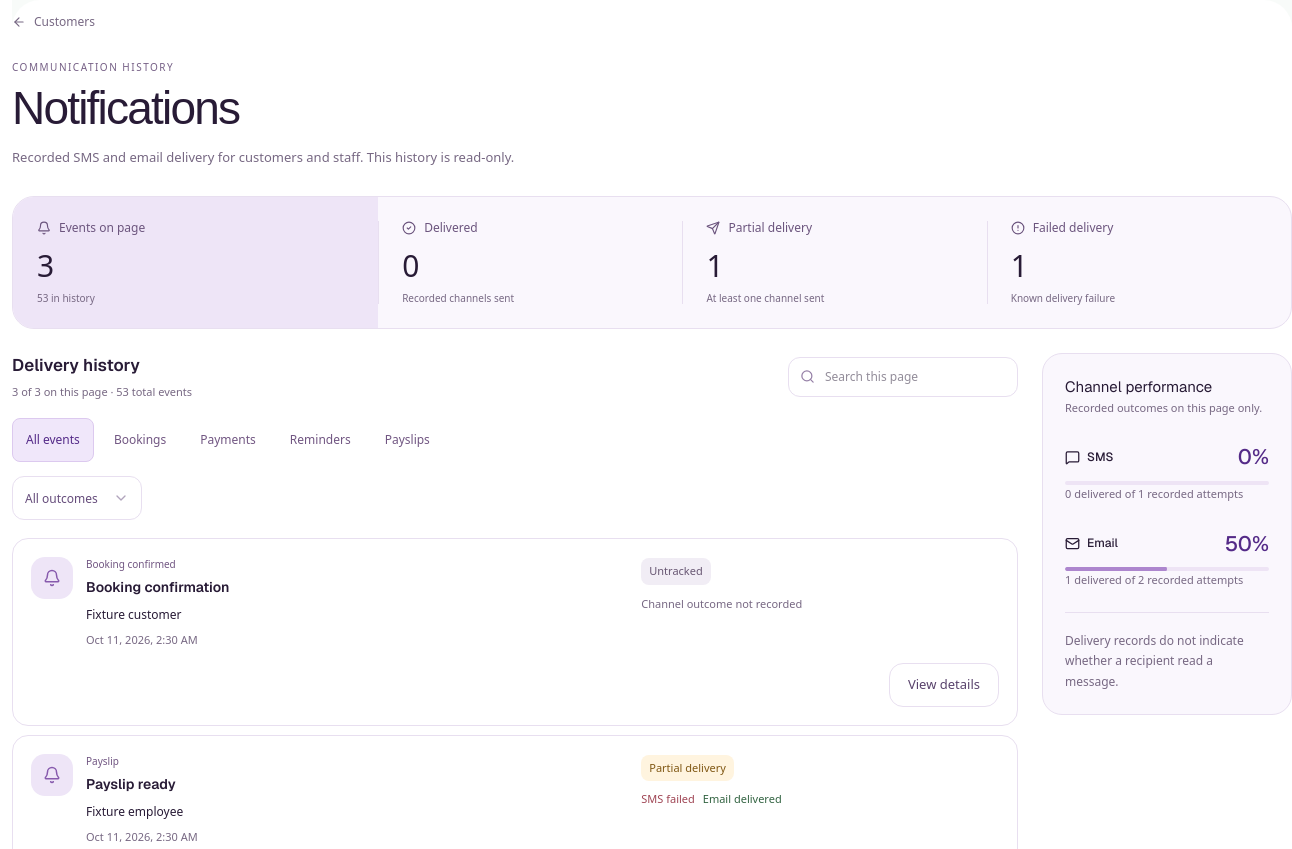
Test: Notifications redesign › filters and resets without changing the server page
Click the button "Payslips": (407, 440) x1=371 y1=418 x2=444 y2=462
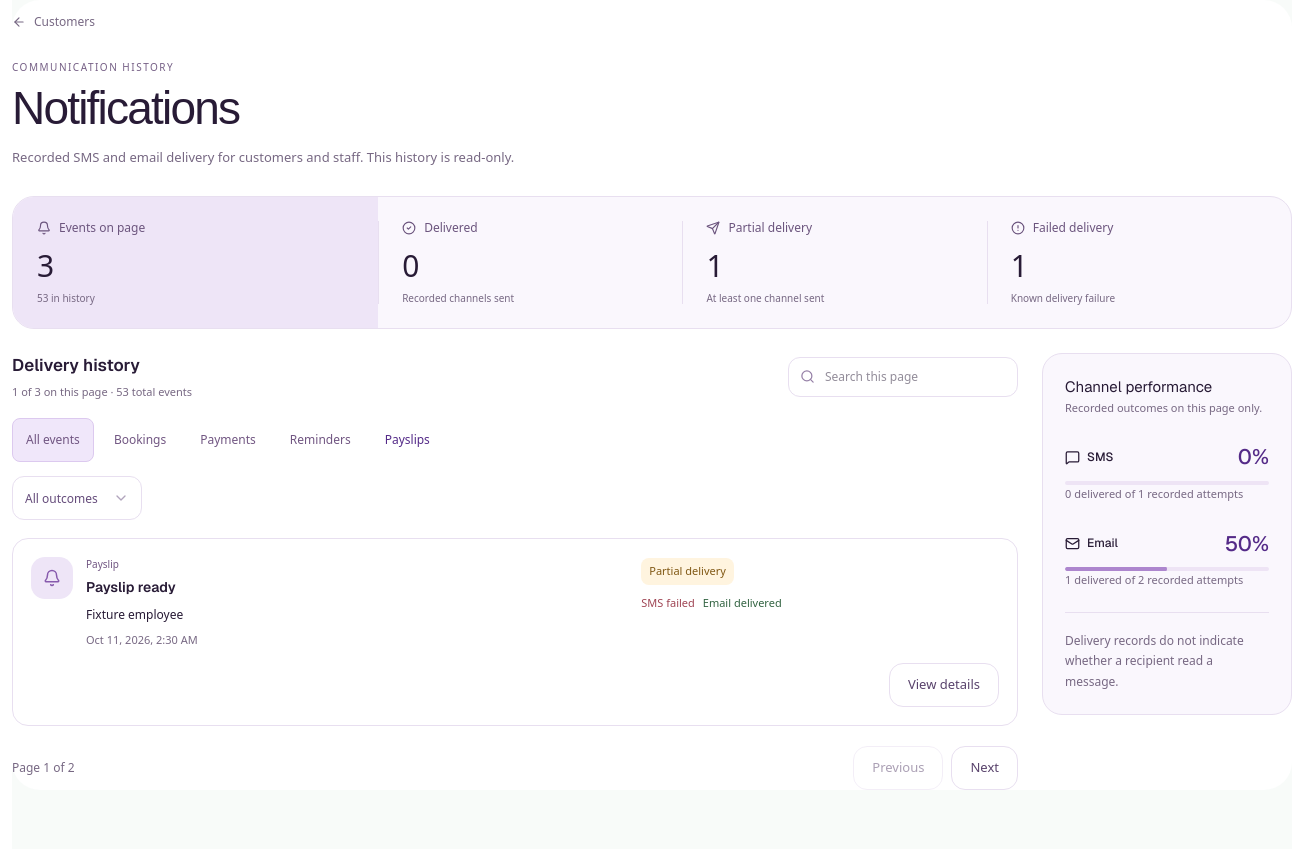
Expected: the text "Fixture employee" is shown, x1=86 y1=606 x2=198 y2=624
Expected: the text "Fixture customer" is gone
In the search field: (903, 377) x1=788 y1=357 x2=1018 y2=397, type "absent"
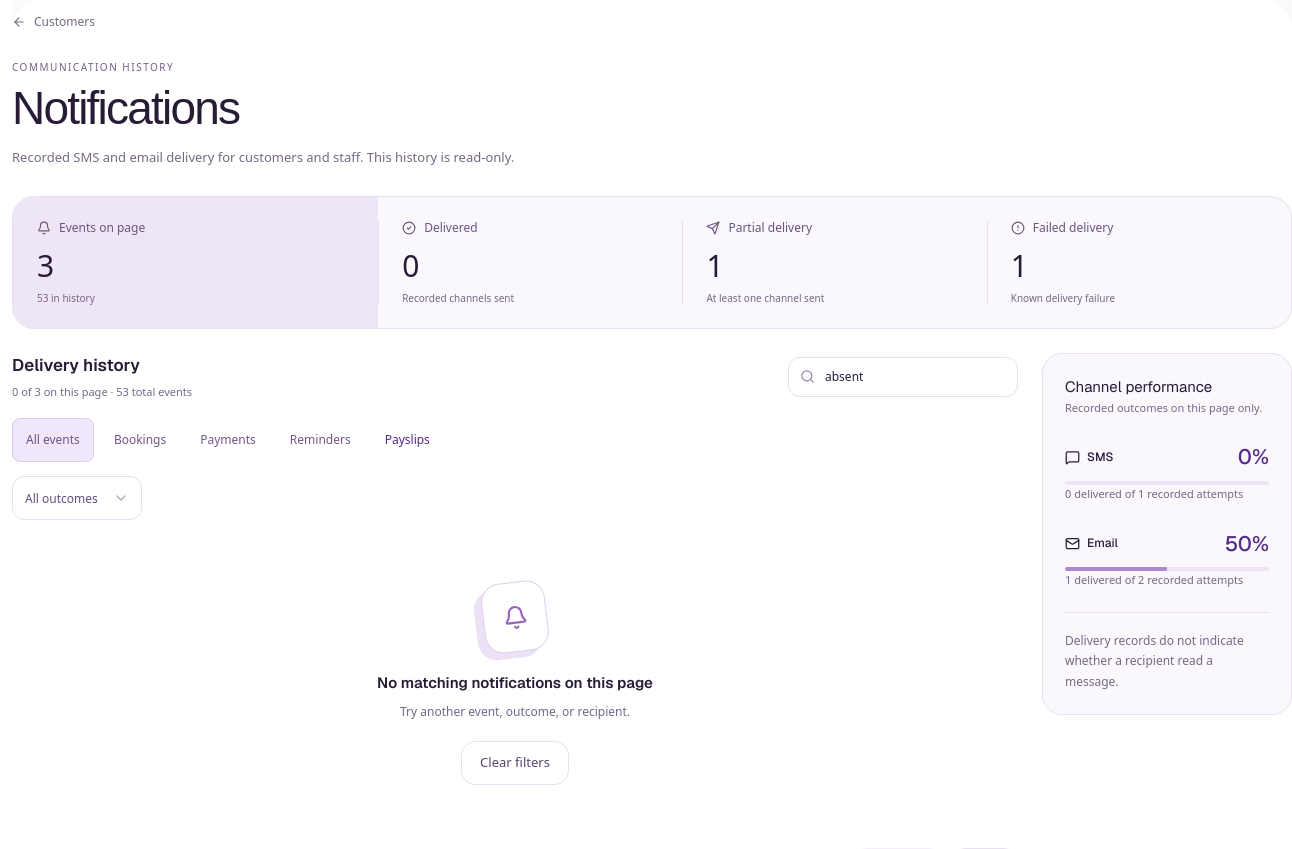
Expected: the heading "No matching notifications on this page" is shown, x1=377 y1=672 x2=653 y2=694
Click the button "Clear filters": (515, 763) x1=461 y1=741 x2=569 y2=785
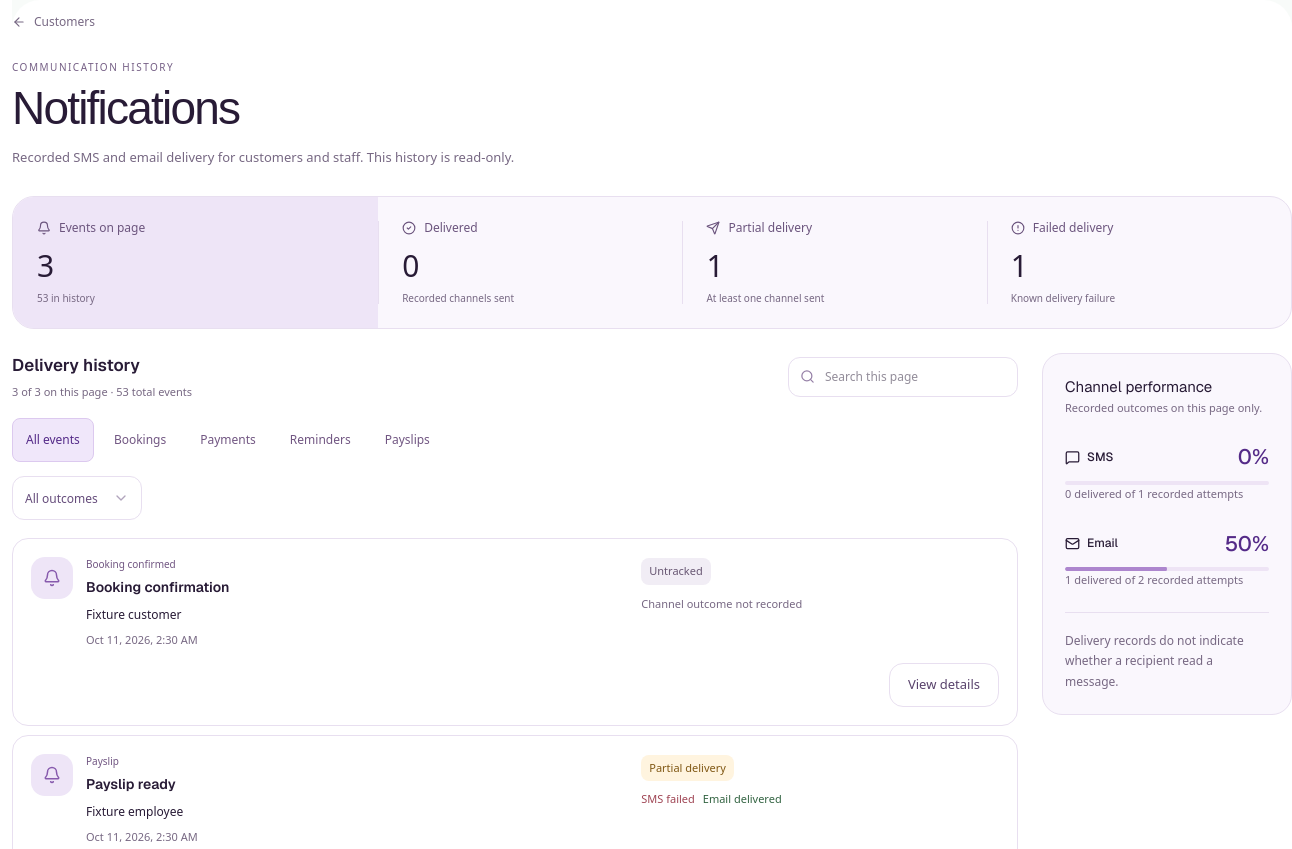
Expected: the text "Fixture customer" is shown, x1=86 y1=606 x2=182 y2=623
